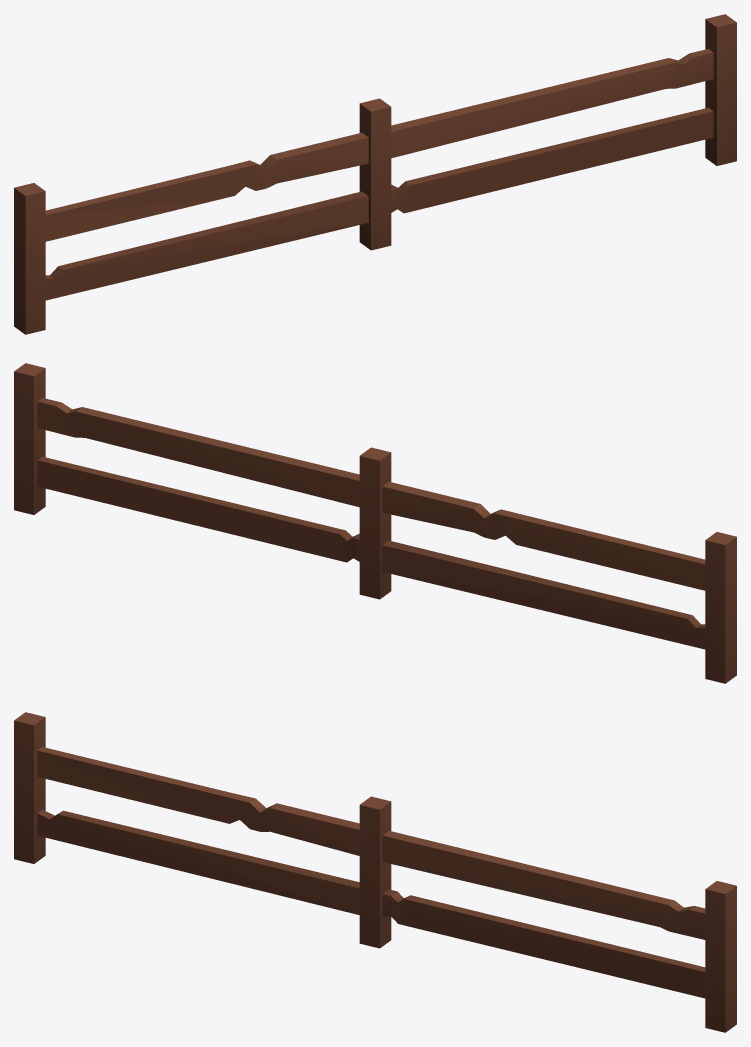
Rendered from farm-fence.glb.
3 views of the same model, one above another, from view 1: azimuth 30°, elevation 25°; view 2: azimuth 150°, elevation 25°; view 3: azimuth 330°, elevation 25° (orthographic).
Visible parts, largest first — view 1: farm-fence; view 2: farm-fence; view 3: farm-fence.
Boxes of the visible parts, x1=… form: farm-fence: x1=14, y1=14, x2=736, y2=334; farm-fence: x1=14, y1=363, x2=736, y2=683; farm-fence: x1=14, y1=712, x2=736, y2=1032.
Bounding box in the file's own units: 5.89 × 1.1 × 0.1654.
